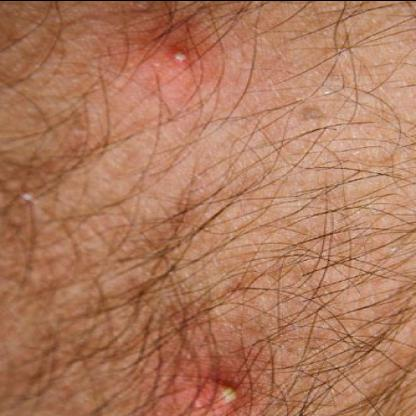Fire ant: (182, 378, 252, 414), (158, 46, 200, 72)
